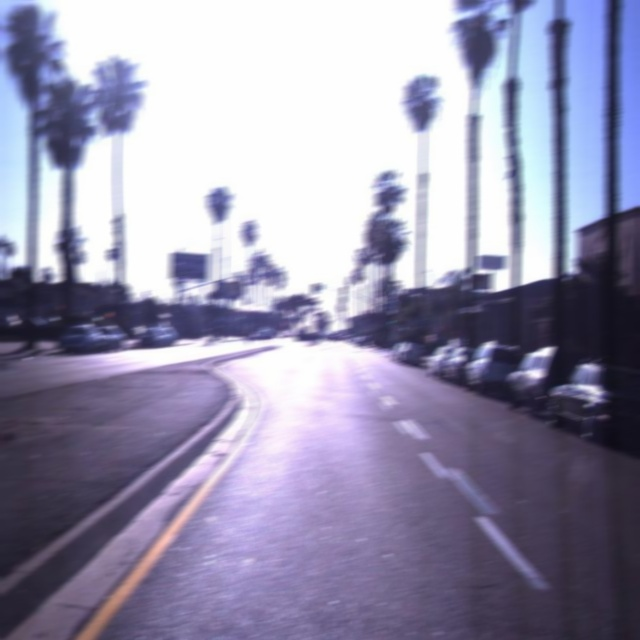go: (312, 277, 320, 294), (340, 284, 346, 297)
go traffic light: (312, 277, 320, 294), (340, 284, 346, 297)
